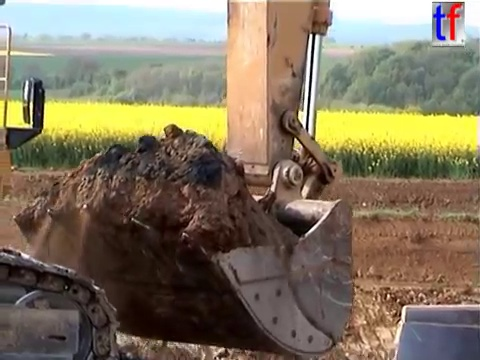excavator: (1, 1, 359, 360)
truck: (389, 300, 480, 360)
